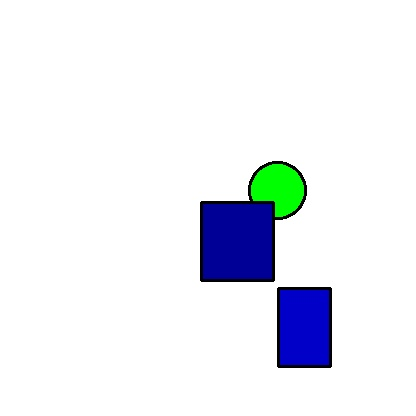circle: (227, 162, 327, 219)
rectangle: (201, 202, 273, 280), (278, 288, 330, 366)
